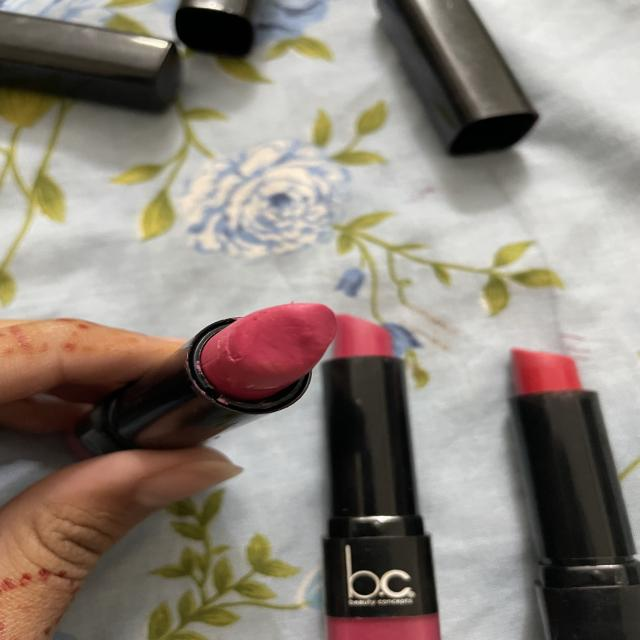lip stick: (70, 262, 364, 490), (285, 303, 451, 640), (491, 326, 640, 640)
